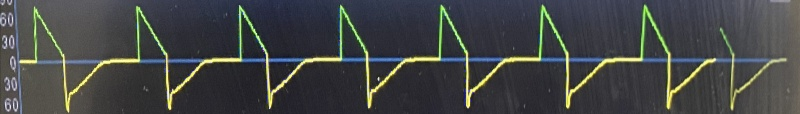normal_flow: (23, 0, 788, 114)
